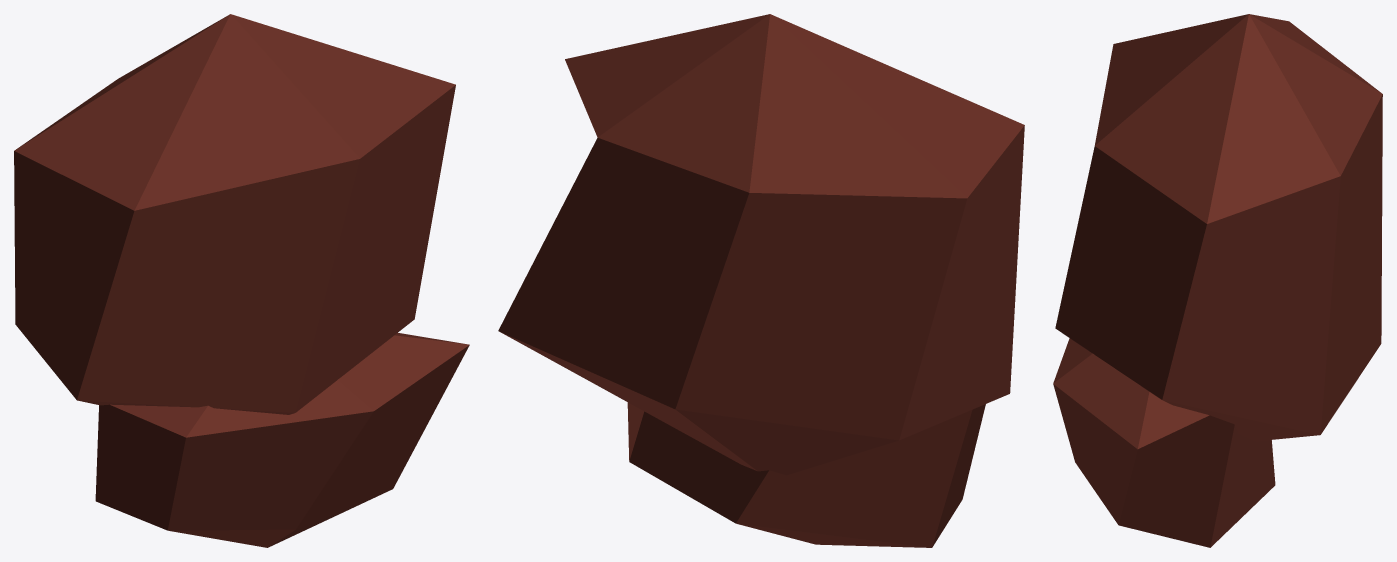
File: chokecherry-far.glb
3 renders of one model, left to right at view 1: azimuth 30°, elevation 25°; view 2: azimuth 150°, elevation 25°; view 3: azimuth 270°, elevation 25°, orthographic. The views are drawn at different scales.
Parts seen in each view (by area): view 1: chokecherry-far / foliage; view 2: chokecherry-far / foliage; view 3: chokecherry-far / foliage.
Part boxes in pixels (<box>): chokecherry-far / foliage: <box>14,14,469,547</box>; chokecherry-far / foliage: <box>498,14,1024,547</box>; chokecherry-far / foliage: <box>1053,14,1382,547</box>.
Size of the model in its own units: 1.95 by 2.31 by 1.34.
